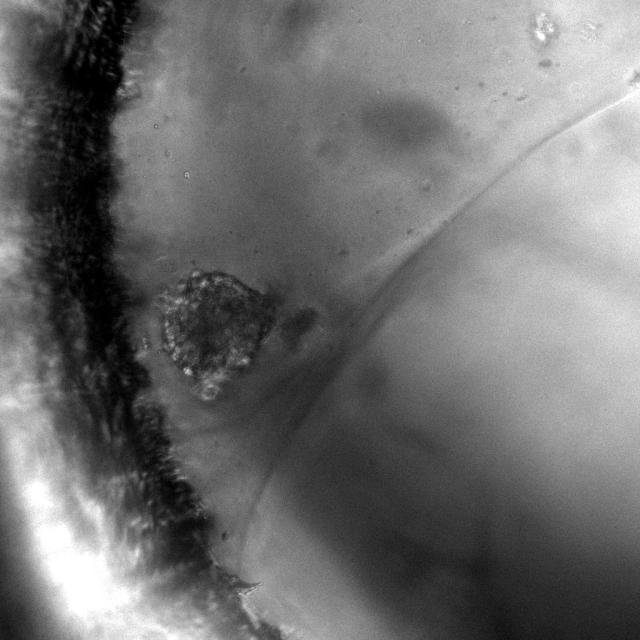organoid: (158, 269, 277, 401)
